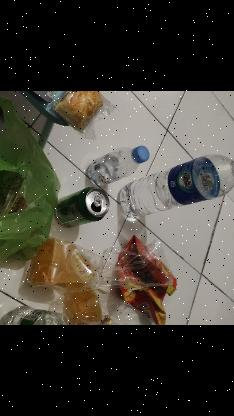Can: (54, 187, 108, 229)
Others: (0, 91, 60, 271), (116, 235, 176, 325)
Plastic Bottle: (119, 154, 234, 216), (86, 146, 148, 186)
